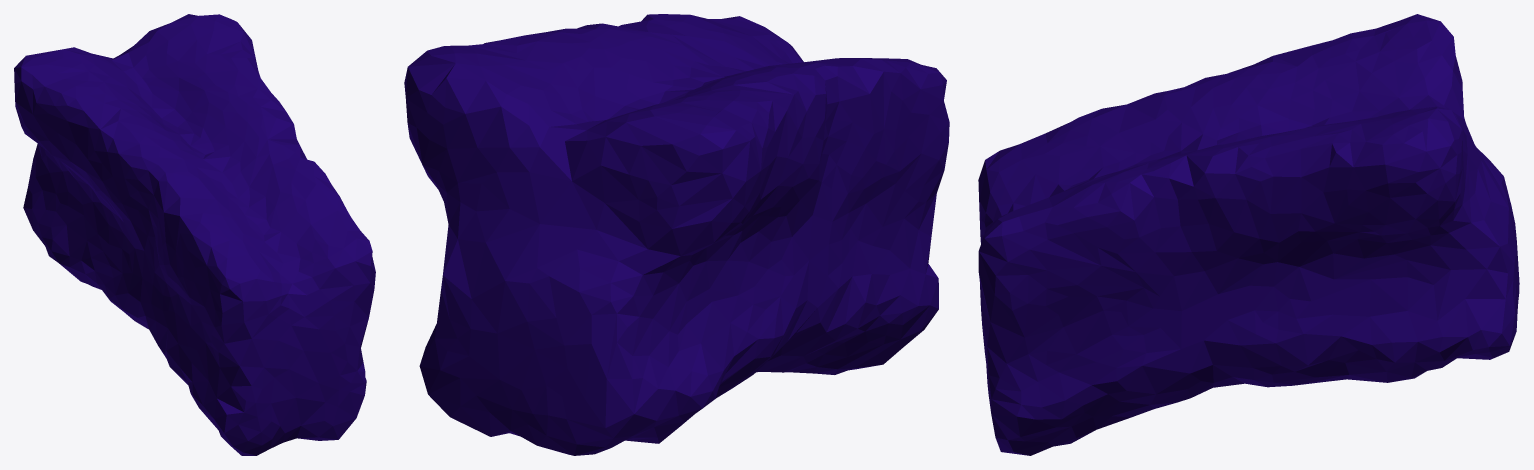
File: 175-6M-area 6 of cortex, medial (supplementary motor) part-('0.1529', '0.0000', '0.4980').obj
3 renders of one model, left to right at view 1: azimuth 30°, elevation 25°; view 2: azimuth 150°, elevation 25°; view 3: azimuth 270°, elevation 25°, orthographic. The views are drawn at different scales.
Size of the model in its own units: 57.68 by 71.81 by 97.45.
